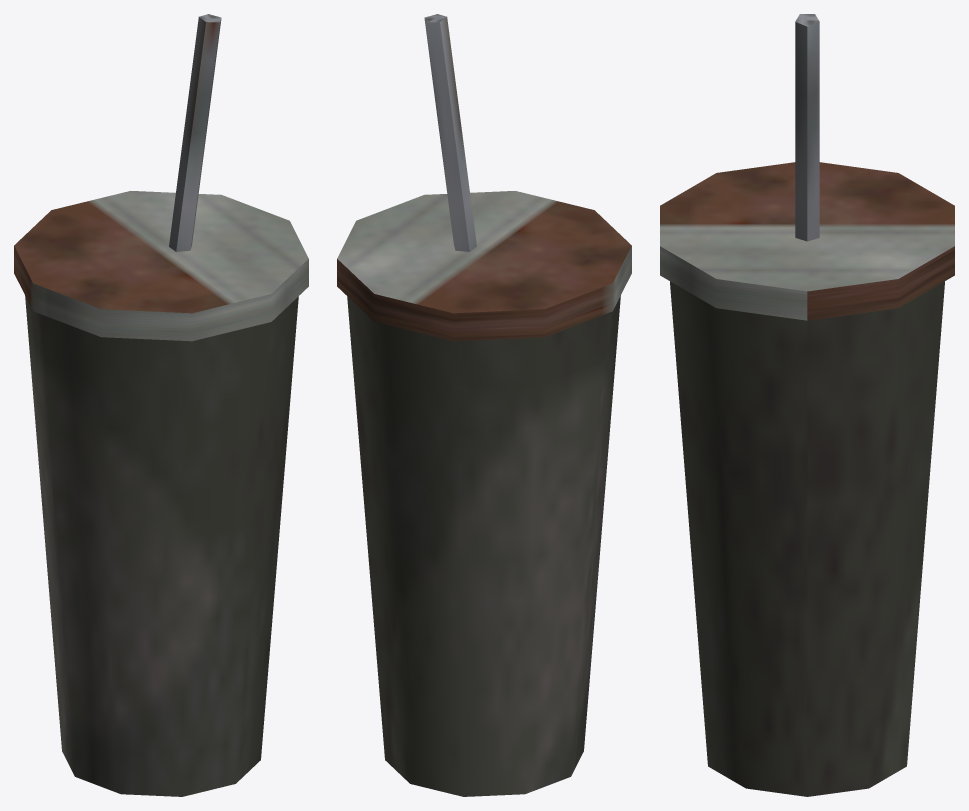
The model's file is soda_cup.fbx.
3 renders of one model, left to right at view 1: azimuth 30°, elevation 25°; view 2: azimuth 150°, elevation 25°; view 3: azimuth 270°, elevation 25°, orthographic. The views are drawn at different scales.
Parts seen in each view (by area): view 1: soda_cup; view 2: soda_cup; view 3: soda_cup.
Boxes of the visible parts, x1,y1,x2,y2 form: soda_cup: (14, 14, 308, 796); soda_cup: (337, 14, 631, 796); soda_cup: (660, 14, 954, 796).
Size of the model in its own units: 0.096 by 0.2596 by 0.0913.
